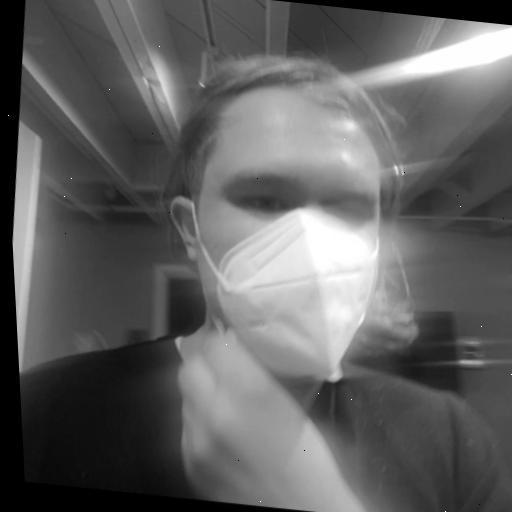mask: (112, 24, 461, 381)
